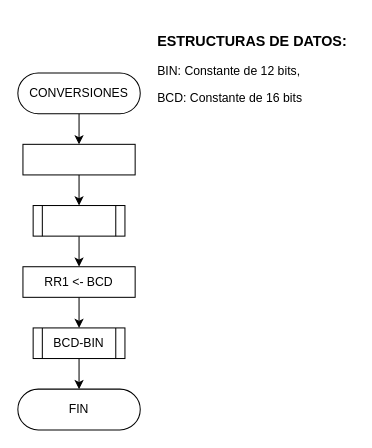
Some shapes in this 372 by 448 pixel diagram are drawn without their labels. The shapes that lost their labels are listed below. From the top down, each one's centre as x and y in pixels, then its label:
At [78,159]: "RR1 <- BIN".
At [78,220]: "BIN-BCD".
